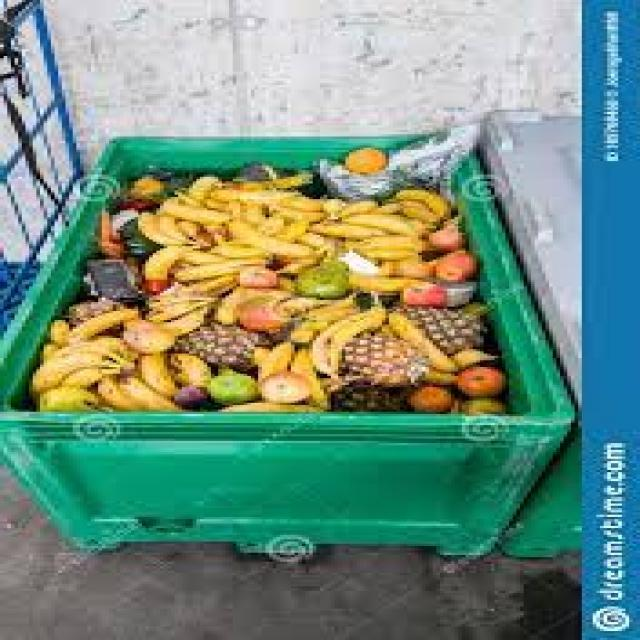Wet: (33, 142, 520, 419), (122, 196, 249, 256), (205, 279, 302, 336), (290, 252, 394, 304), (336, 136, 414, 184)
